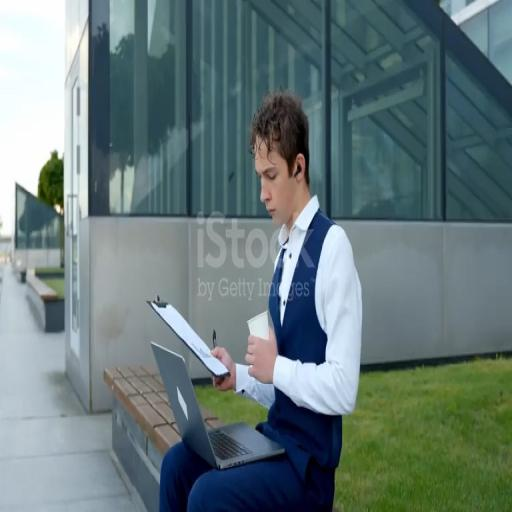earphone: (292, 155, 304, 187)
